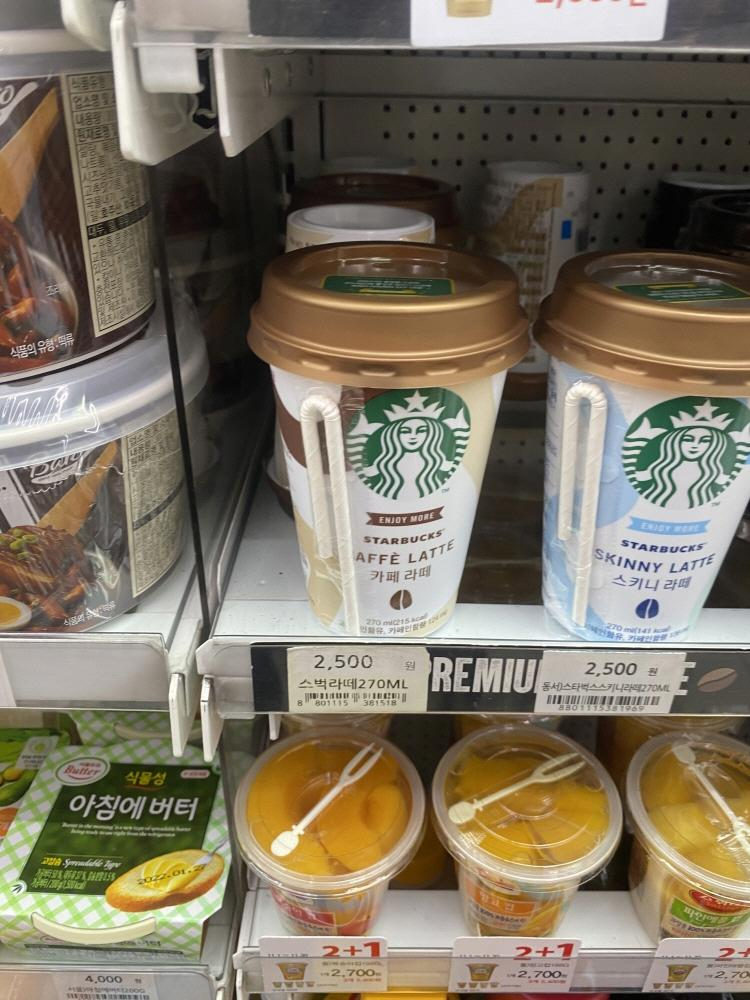starbucks_cafelatte: (231, 243, 504, 643)
